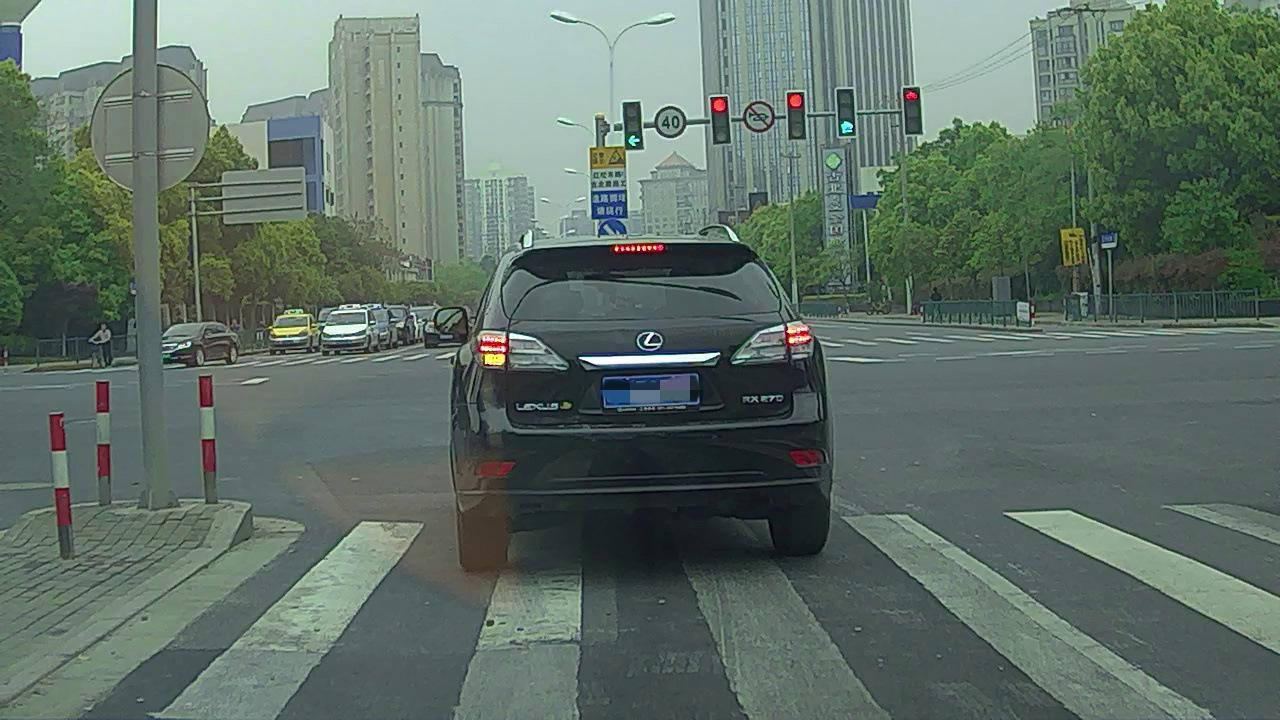traffic_light: (623, 100, 644, 150), (709, 96, 731, 143), (837, 87, 858, 136), (786, 91, 806, 141), (903, 87, 922, 134)
